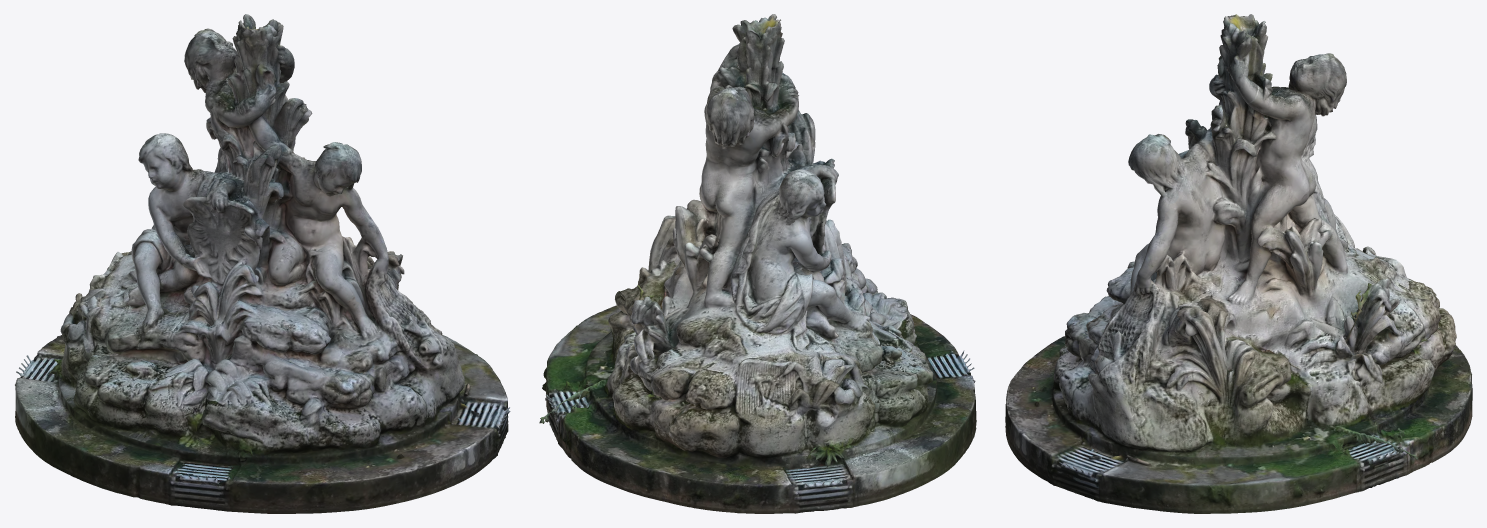
The model's file is fountain_with_three_putts_brno_lu_nky.glb.
3 renders of one model, left to right at view 1: azimuth 30°, elevation 25°; view 2: azimuth 150°, elevation 25°; view 3: azimuth 270°, elevation 25°, orthographic.
Parts seen in each view (by area): view 1: kasna_luzanky; view 2: kasna_luzanky; view 3: kasna_luzanky.
Part boxes in pixels (bbox=[...]): kasna_luzanky: bbox=[15, 14, 510, 513]; kasna_luzanky: bbox=[539, 14, 976, 513]; kasna_luzanky: bbox=[1005, 14, 1472, 513].
Bounding box in the file's own units: 3.25 × 3.05 × 3.26.
Materials: 1 (1 with a texture image).
